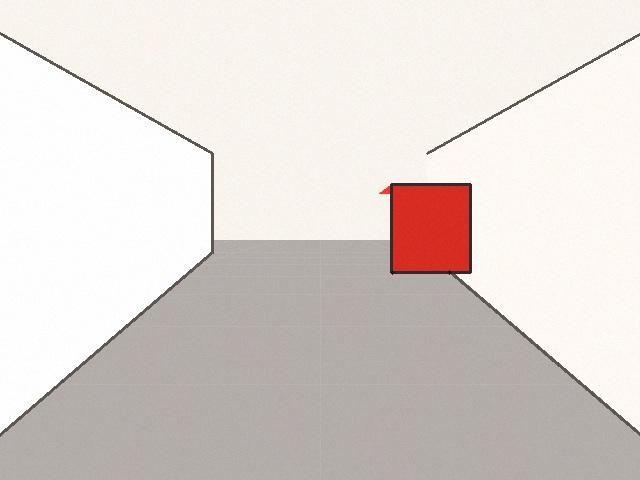cart: (379, 184, 470, 272)
